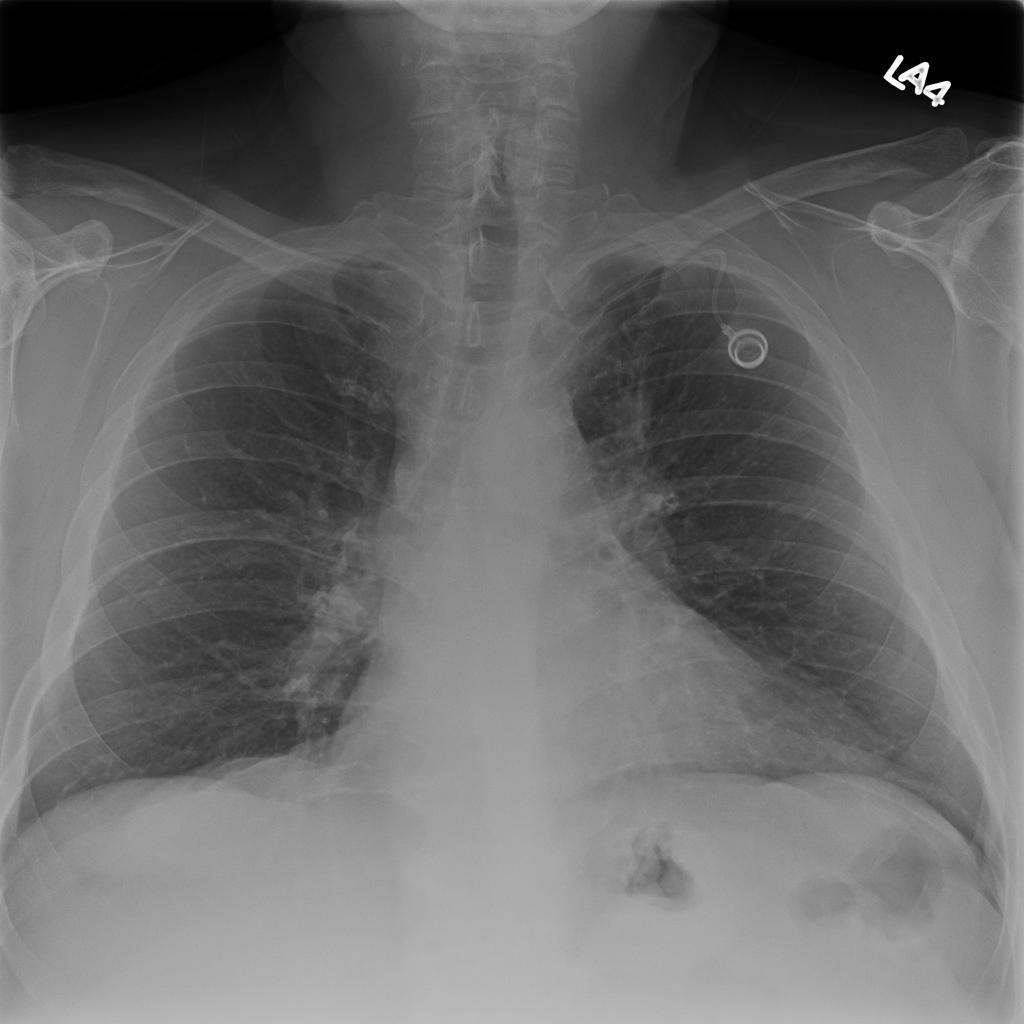Nodule: (105, 271, 137, 297), (168, 181, 197, 209), (167, 152, 197, 179), (360, 140, 379, 164)
